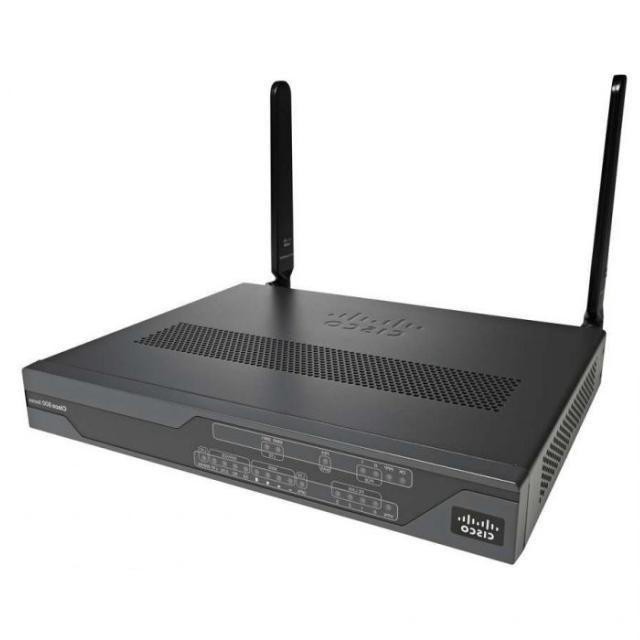Router: (13, 72, 633, 568)
